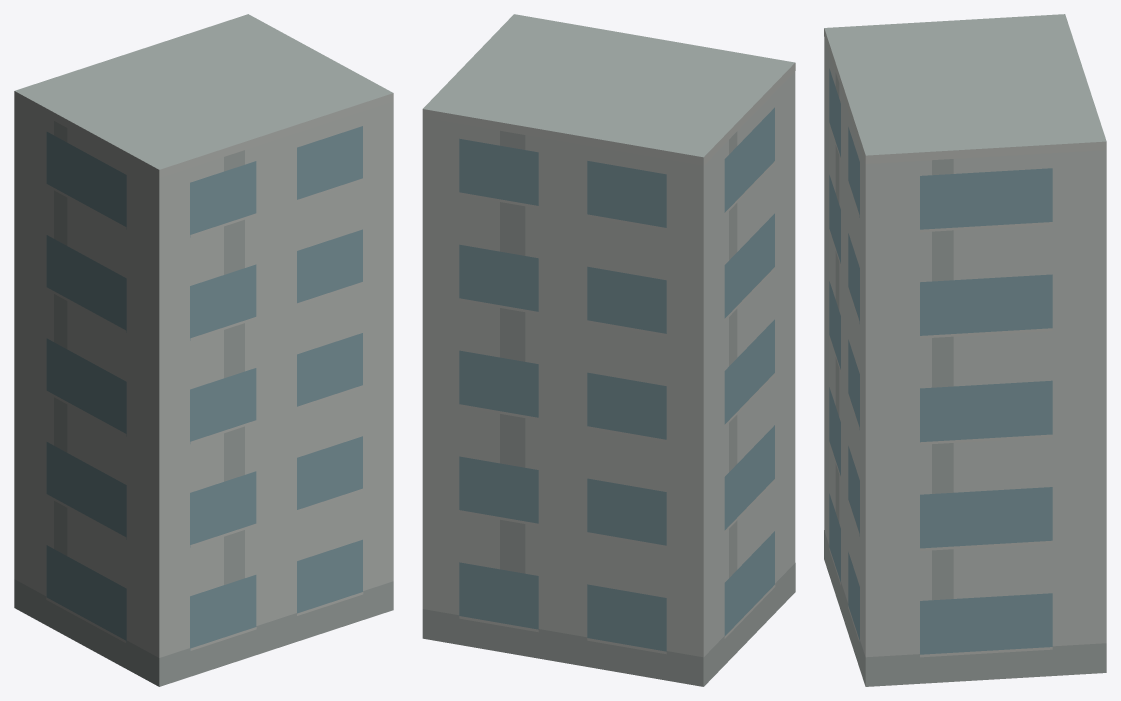
Rendered from residential-a64f1338-7d89-41f3-b6a7-a27874dbb4bb.glb.
3 views of the same model, side by side, from view 1: azimuth 30°, elevation 25°; view 2: azimuth 150°, elevation 25°; view 3: azimuth 270°, elevation 25° (orthographic). The views are drawn at different scales.
Parts seen in each view (by area): view 1: residential-a64f1338-7d89-41f3-b6a7-a27874dbb4bb.tmp; view 2: residential-a64f1338-7d89-41f3-b6a7-a27874dbb4bb.tmp; view 3: residential-a64f1338-7d89-41f3-b6a7-a27874dbb4bb.tmp.
Boxes of the visible parts, x1,y1,x2,y2 form: residential-a64f1338-7d89-41f3-b6a7-a27874dbb4bb.tmp: (14,14,393,686); residential-a64f1338-7d89-41f3-b6a7-a27874dbb4bb.tmp: (422,14,795,686); residential-a64f1338-7d89-41f3-b6a7-a27874dbb4bb.tmp: (824,14,1106,686).
Size of the model in its own units: 8.72 by 15.25 by 7.36.
